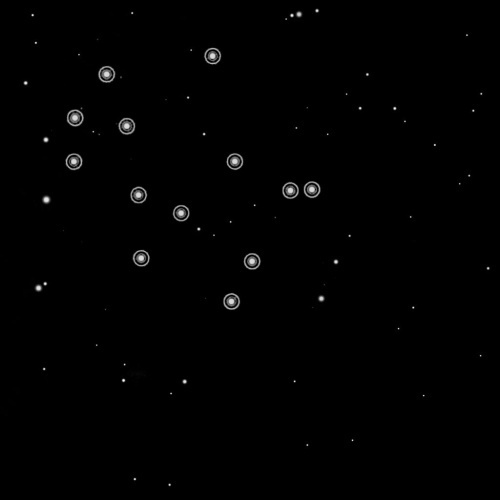gemini: (56, 46, 324, 313)
